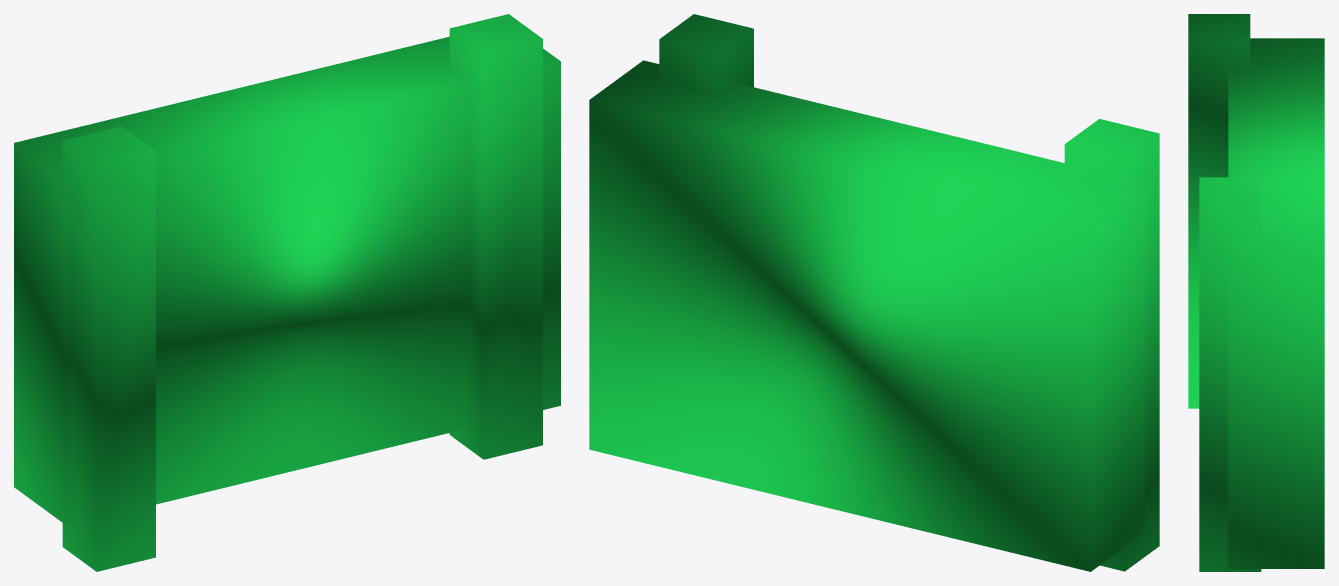
The model's file is ps2_jrpg_imperial_city_defensive_rampart_wall.obj.
3 views of the same model, side by side, from view 1: azimuth 30°, elevation 25°; view 2: azimuth 150°, elevation 25°; view 3: azimuth 270°, elevation 25° (orthographic). The views are drawn at different scales.
Bounding box in the file's own units: 1.5 × 1.21 × 0.396.
